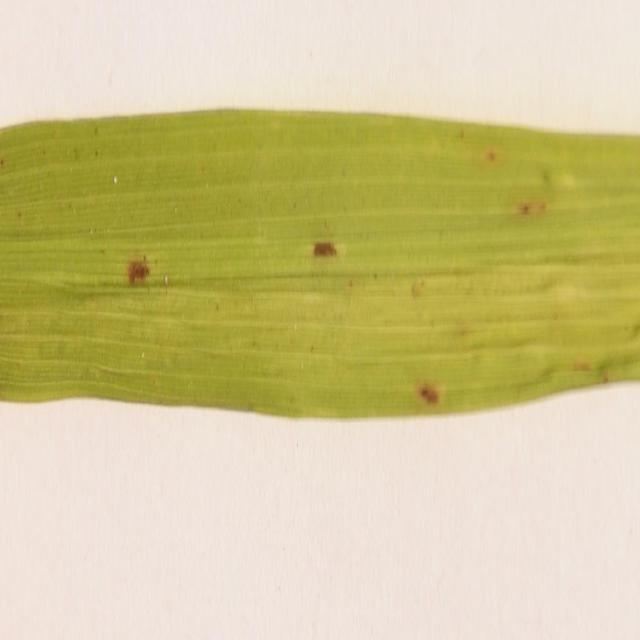Brown_Spot: (106, 218, 158, 318), (304, 212, 348, 304), (410, 348, 452, 433)
